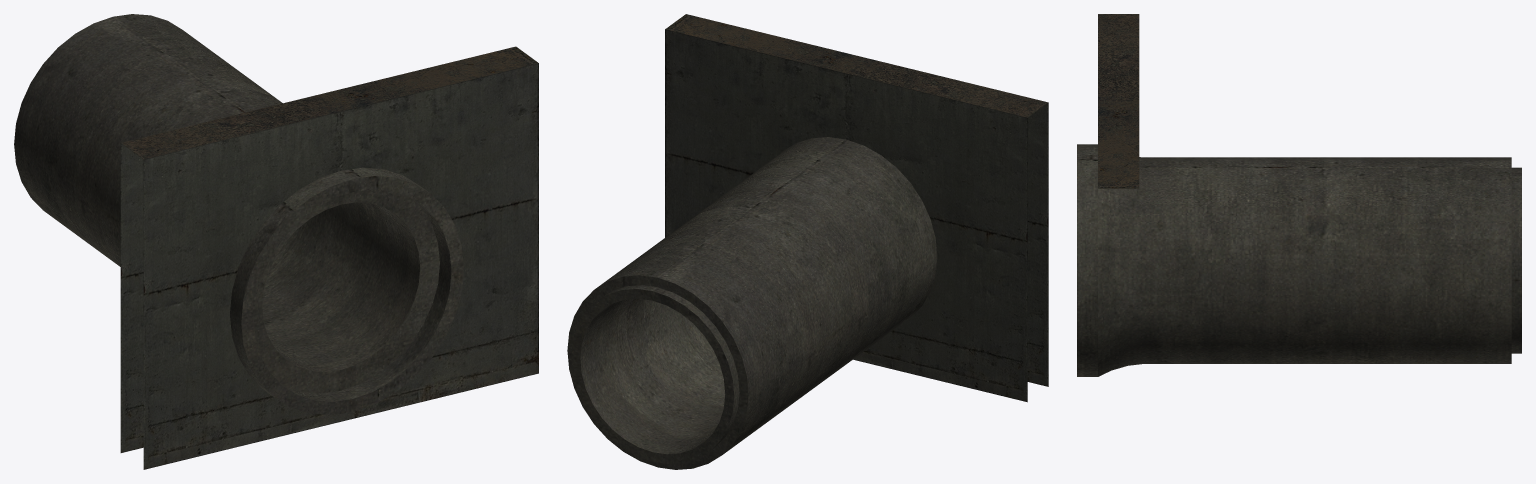
Rendered from wall_rg_1_hole_2.obj.
3 renders of one model, left to right at view 1: azimuth 30°, elevation 25°; view 2: azimuth 150°, elevation 25°; view 3: azimuth 270°, elevation 25°, orthographic. The views are drawn at different scales.
Visible parts, largest first — view 1: wall_rg_1_hole_2; view 2: wall_rg_1_hole_2; view 3: wall_rg_1_hole_2.
Part boxes in pixels (x1,y1,x2,y2): wall_rg_1_hole_2: [14, 14, 538, 469]; wall_rg_1_hole_2: [567, 14, 1048, 469]; wall_rg_1_hole_2: [1077, 14, 1521, 376].
Size of the model in its own units: 4 by 3 by 4.3.
